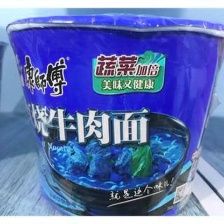paper_cup: (1, 8, 224, 216)
